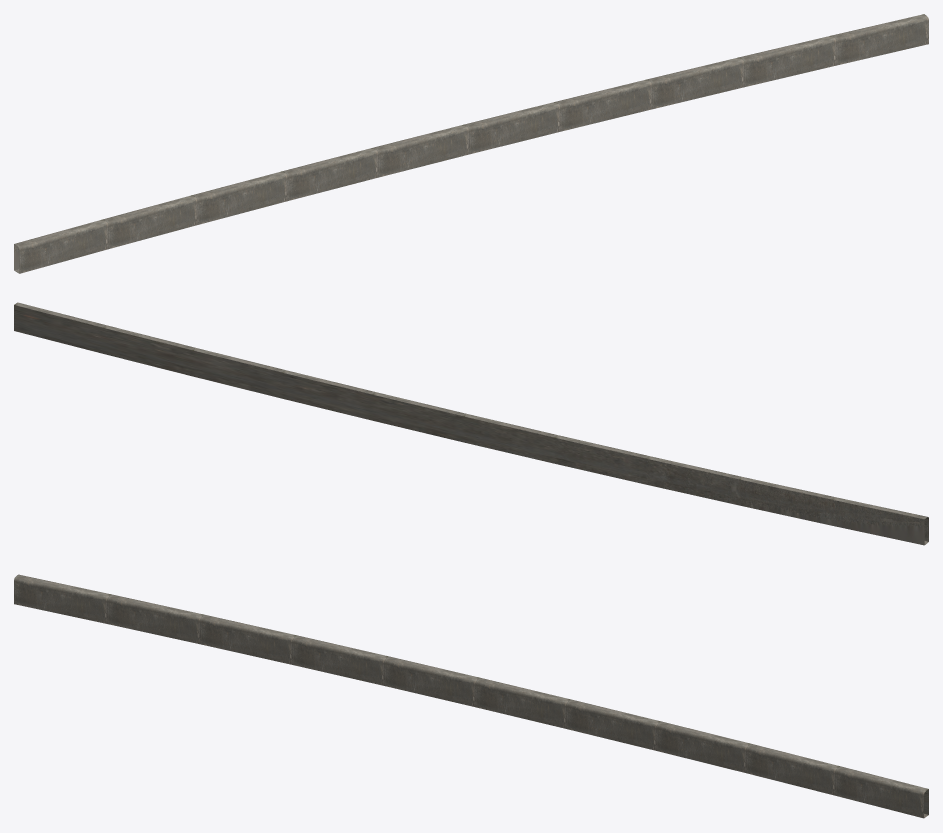
The model's file is SM_Curb_13.glb.
3 renders of one model, top to bottom at view 1: azimuth 30°, elevation 25°; view 2: azimuth 150°, elevation 25°; view 3: azimuth 330°, elevation 25°, orthographic.
Parts seen in each view (by area): view 1: SM_Curb_13; view 2: SM_Curb_13; view 3: SM_Curb_13.
Part boxes in pixels (x1,y1,x2,y2): SM_Curb_13: (14,14,928,273); SM_Curb_13: (14,302,928,545); SM_Curb_13: (14,574,928,818).
Bounding box in the file's own units: 2720 × 75.04 × 78.22.
Materials: 1 (1 with a texture image).
